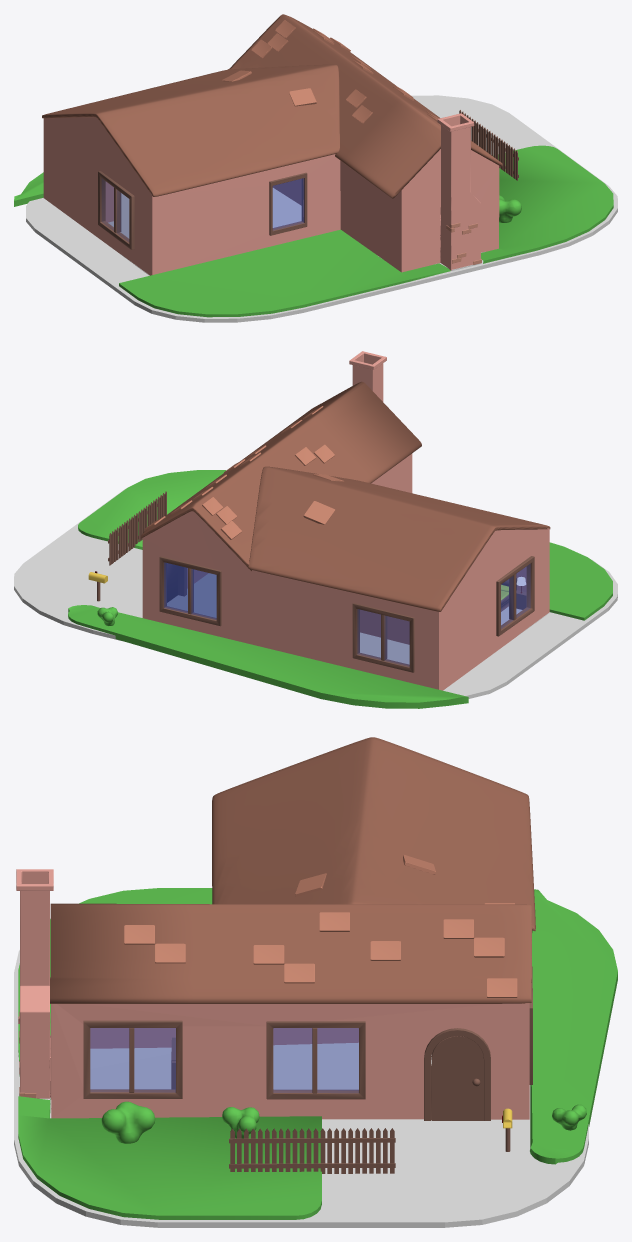
File: casa.fbx
The picture shows the model from 3 angles, top to bottom: view 1: azimuth 30°, elevation 25°; view 2: azimuth 150°, elevation 25°; view 3: azimuth 270°, elevation 25°; orthographic projection. The views are drawn at different scales.
Visible parts, largest first — view 1: Plane.001, Giardino_Plane.005, Tetto.001_Plane.013, Tetto_Plane.002, Terreno_Plane, Camino_Plane.008, Plane.044_Plane.037, Plane, Staccionata_Cube.002, Cornice_finestra.005_Plane.029, Plane.041_Plane.031, Cornice_finestra_Plane.035 (+1 smaller); view 2: Plane.001, Tetto.001_Plane.013, Giardino_Plane.005, Tetto_Plane.002, Terreno_Plane, Plane.031_Plane.019, Plane.038_Plane.028, Plane, Staccionata_Cube.002, Cornice_finestra.003_Plane.017, Cornice_finestra.001_Plane.026, Plane.041_Plane.031 (+2 smaller); view 3: Giardino_Plane.005, Tetto.001_Plane.013, Tetto_Plane.002, Plane.001, Terreno_Plane, Camino_Plane.008, Plane, Staccionata_Cube.002, Plane.041_Plane.001, Plane.041_Plane.002, Door_Sphere, Mball (+3 smaller).
Boxes of the visible parts, bbox=[...] form: Plane.001: bbox=[43, 117, 499, 275]; Giardino_Plane.005: bbox=[14, 145, 613, 317]; Tetto.001_Plane.013: bbox=[42, 64, 339, 196]; Tetto_Plane.002: bbox=[228, 14, 502, 198]; Terreno_Plane: bbox=[26, 95, 617, 322]; Camino_Plane.008: bbox=[437, 113, 481, 270]; Plane.044_Plane.037: bbox=[273, 178, 303, 230]; Plane: bbox=[108, 188, 485, 275]; Staccionata_Cube.002: bbox=[459, 110, 518, 180]; Cornice_finestra.005_Plane.029: bbox=[98, 171, 134, 249]; Plane.041_Plane.031: bbox=[102, 179, 128, 241]; Cornice_finestra_Plane.035: bbox=[269, 172, 307, 235]; Plane.001: bbox=[142, 453, 549, 690]; Tetto.001_Plane.013: bbox=[248, 466, 550, 611]; Giardino_Plane.005: bbox=[68, 470, 612, 708]; Tetto_Plane.002: bbox=[140, 381, 421, 571]; Terreno_Plane: bbox=[14, 488, 617, 698]; Plane.031_Plane.019: bbox=[164, 562, 216, 619]; Plane.038_Plane.028: bbox=[357, 609, 409, 666]; Plane: bbox=[167, 573, 549, 664]; Staccionata_Cube.002: bbox=[108, 491, 166, 565]; Cornice_finestra.003_Plane.017: bbox=[159, 556, 221, 626]; Cornice_finestra.001_Plane.026: bbox=[352, 603, 414, 672]; Plane.041_Plane.031: bbox=[501, 564, 530, 628]; Giardino_Plane.005: bbox=[18, 888, 617, 1219]; Tetto.001_Plane.013: bbox=[212, 737, 535, 930]; Tetto_Plane.002: bbox=[50, 903, 532, 1003]; Plane.001: bbox=[51, 1003, 529, 1119]; Terreno_Plane: bbox=[14, 918, 588, 1227]; Camino_Plane.008: bbox=[16, 869, 53, 1098]; Plane: bbox=[19, 1042, 431, 1108]; Staccionata_Cube.002: bbox=[229, 1128, 395, 1173]; Plane.041_Plane.001: bbox=[273, 1028, 358, 1092]; Plane.041_Plane.002: bbox=[90, 1028, 175, 1092]; Door_Sphere: bbox=[431, 1036, 483, 1120]; Mball: bbox=[101, 1101, 586, 1143].
Bounding box in the file's own units: 1719 × 512 × 1317.
